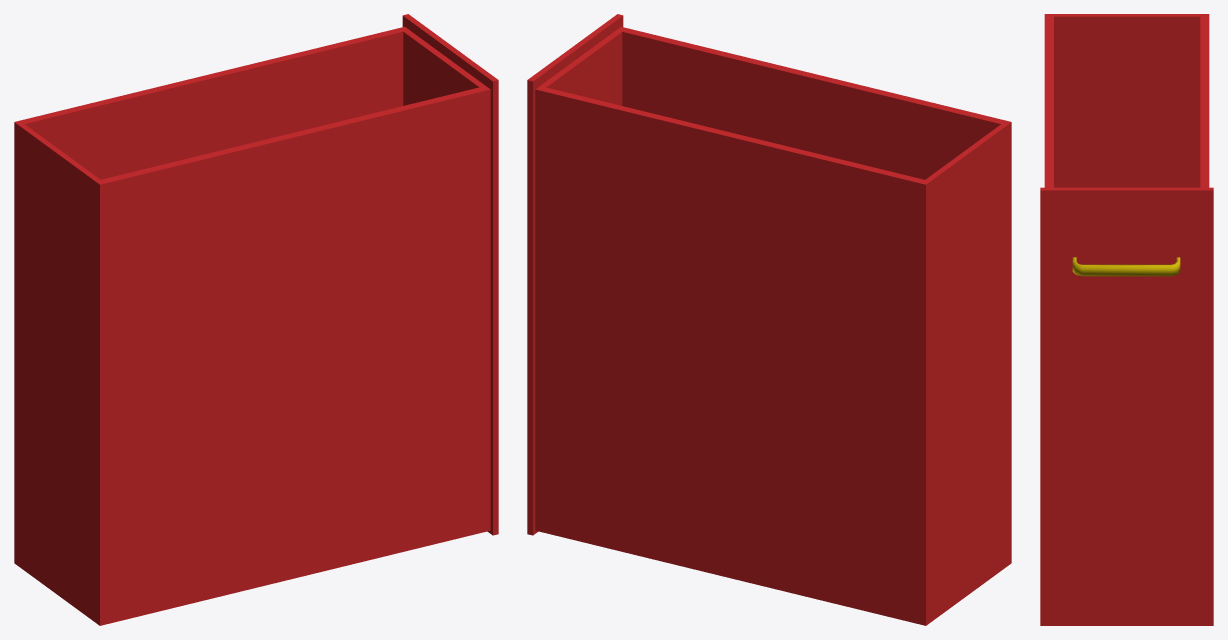
Rendered from MOD_Kitchen_counter_drawer_02.fbx.
The picture shows the model from 3 angles, left to right: view 1: azimuth 30°, elevation 25°; view 2: azimuth 150°, elevation 25°; view 3: azimuth 270°, elevation 25°; orthographic projection. The views are drawn at different scales.
Visible parts, largest first — view 1: HSHP_MOD_Kitchen_counter_drawer_02; view 2: HSHP_MOD_Kitchen_counter_drawer_02; view 3: HSHP_MOD_Kitchen_counter_drawer_02.
Part boxes in pixels (left/top/right/bottom): HSHP_MOD_Kitchen_counter_drawer_02: left=14, top=14, right=498, bottom=625; HSHP_MOD_Kitchen_counter_drawer_02: left=527, top=14, right=1011, bottom=625; HSHP_MOD_Kitchen_counter_drawer_02: left=1040, top=14, right=1213, bottom=625.
Size of the model in its own units: 0.7794 by 0.8152 by 0.2941.
